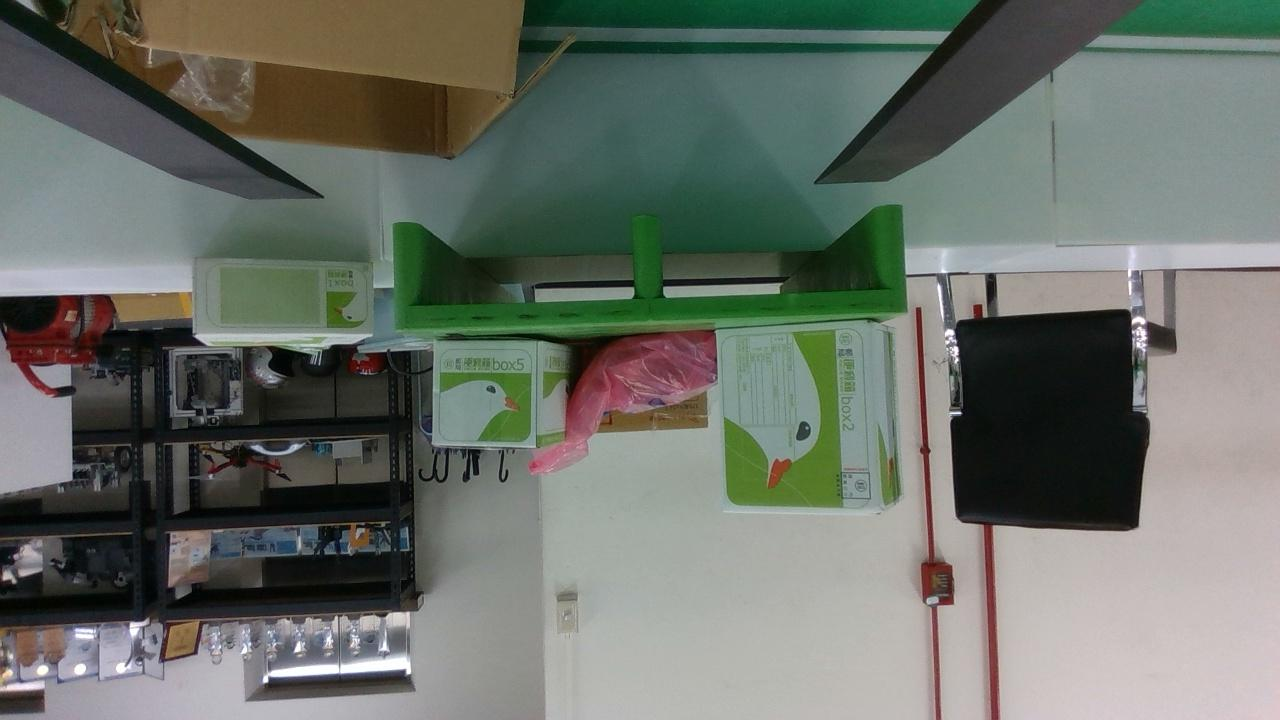Pallet: (393, 200, 909, 333)
